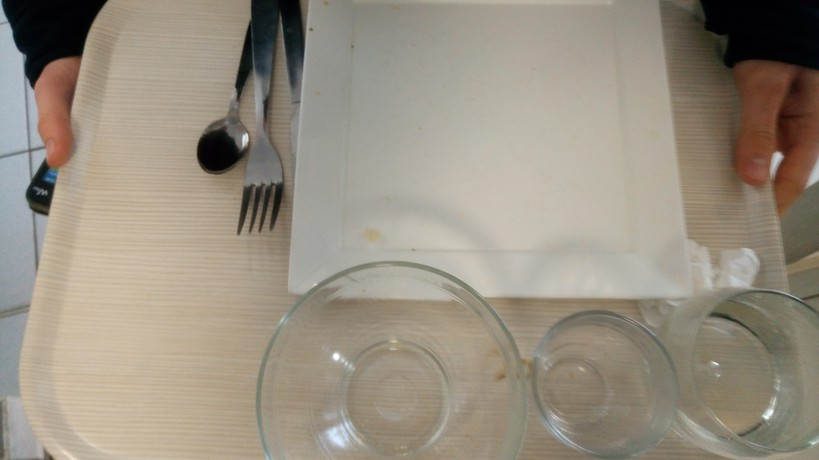cup: (530, 307, 688, 455)
cutlery: (196, 1, 291, 244)
trash: (694, 227, 756, 291)
